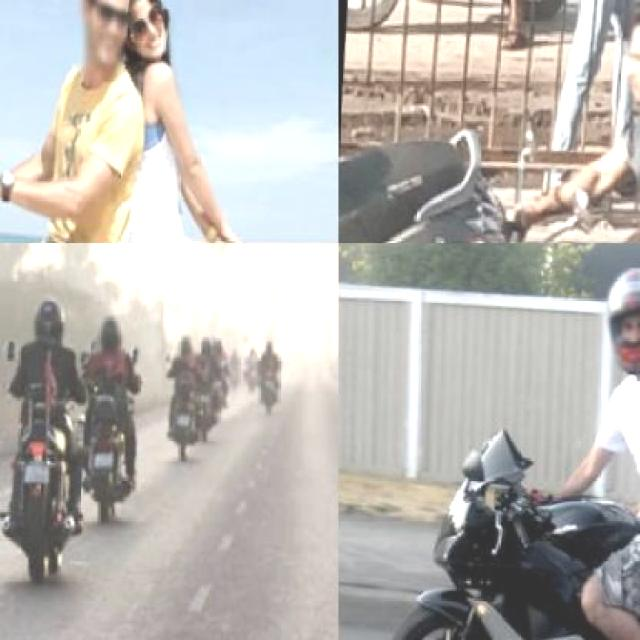With Helmet: (588, 263, 638, 377), (20, 282, 68, 356), (88, 301, 126, 362), (169, 325, 193, 360)
Without Helmet: (64, 0, 135, 78), (118, 0, 172, 72), (611, 0, 638, 122)
